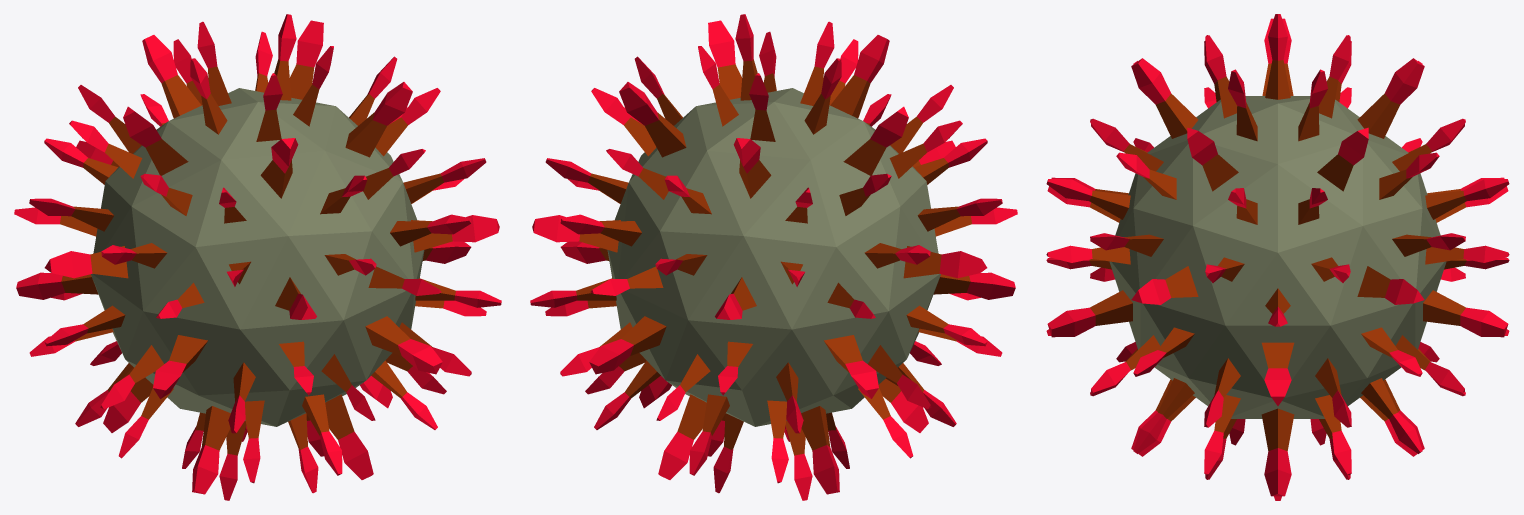
The model's file is virus_letal.glb.
3 views of the same model, side by side, from view 1: azimuth 30°, elevation 25°; view 2: azimuth 150°, elevation 25°; view 3: azimuth 270°, elevation 25° (orthographic).
Parts seen in each view (by area): view 1: virus_06; view 2: virus_06; view 3: virus_06.
Boxes of the visible parts, <box> form: virus_06: <box>14,14,501,500</box>; virus_06: <box>530,14,1017,500</box>; virus_06: <box>1046,14,1509,500</box>.
Size of the model in its own units: 0.7977 by 0.7717 by 0.7613.
